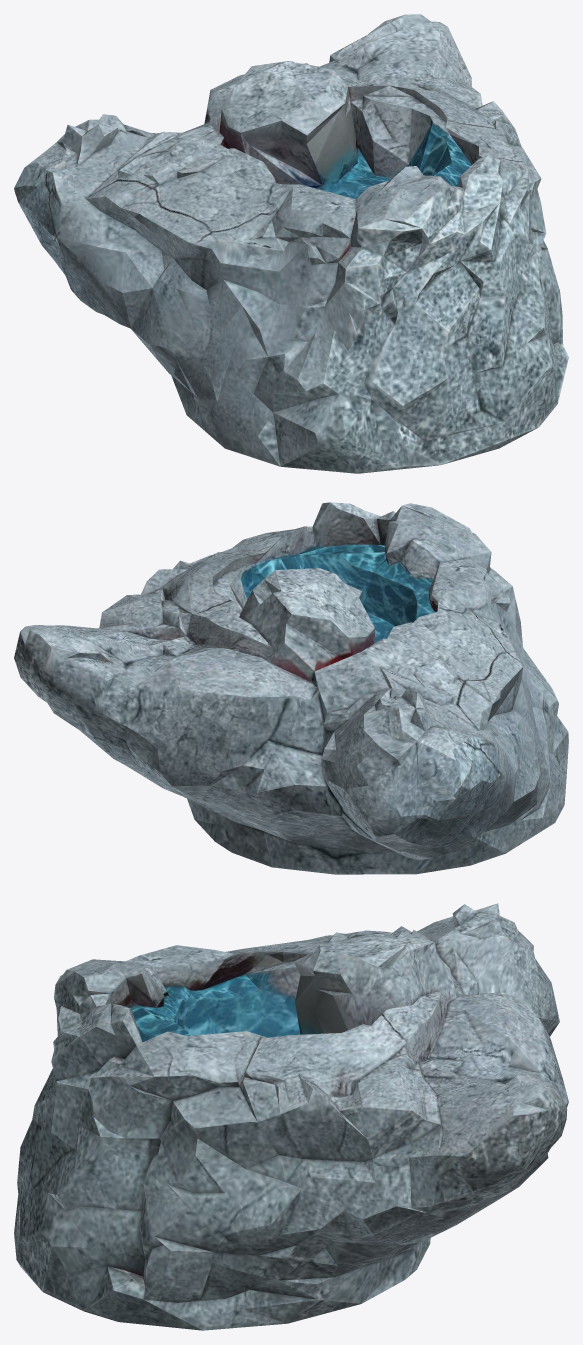
The model's file is asteroid-ice.glb.
The picture shows the model from 3 angles, top to bottom: view 1: azimuth 30°, elevation 25°; view 2: azimuth 150°, elevation 25°; view 3: azimuth 270°, elevation 25°; orthographic projection. The views are drawn at different scales.
Bounding box in the file's own units: 1.89 × 1.17 × 1.84.
1 material, 1 textured.
